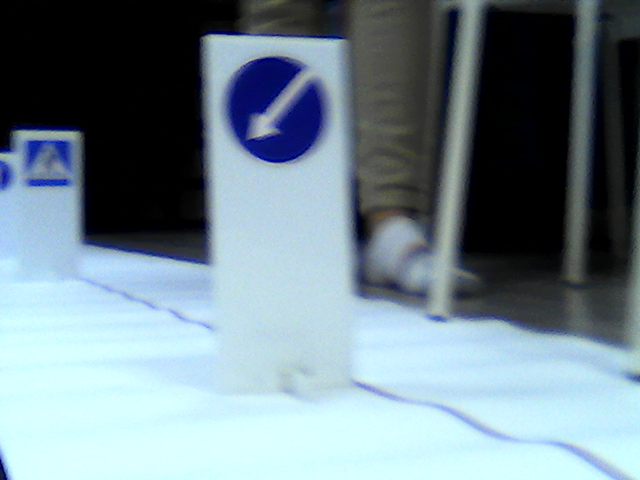prep: (224, 57, 328, 164)
